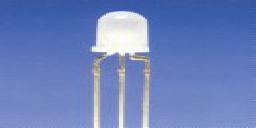LED: (87, 10, 155, 128)
